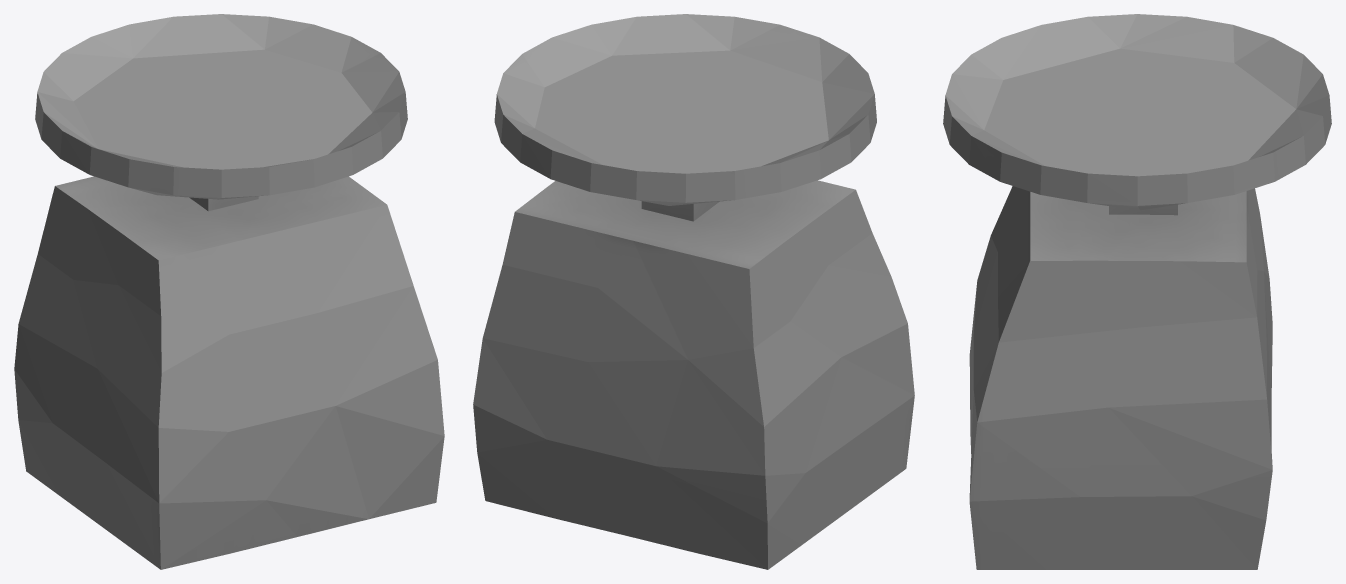
The model's file is scale2.dae.
The picture shows the model from 3 angles, left to right: view 1: azimuth 30°, elevation 25°; view 2: azimuth 150°, elevation 25°; view 3: azimuth 270°, elevation 25°; orthographic projection. The views are drawn at different scales.
Visible parts, largest first — view 1: node; view 2: node; view 3: node.
Boxes of the visible parts, bbox=[...] form: node: bbox=[14, 14, 444, 569]; node: bbox=[473, 14, 914, 569]; node: bbox=[943, 14, 1331, 569].
Bounding box in the file's own units: 0.1166 × 0.1342 × 0.1166.
1 material, 1 textured.
